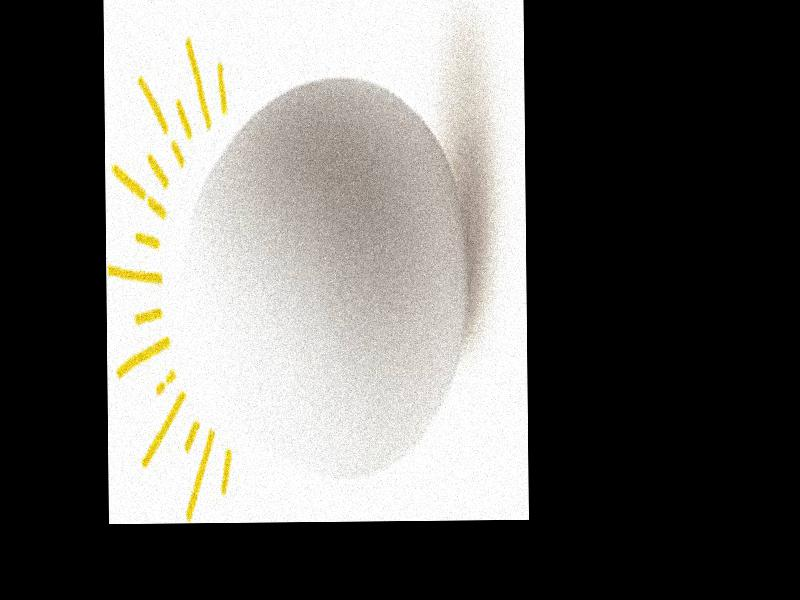Eggs: (183, 77, 469, 483)
